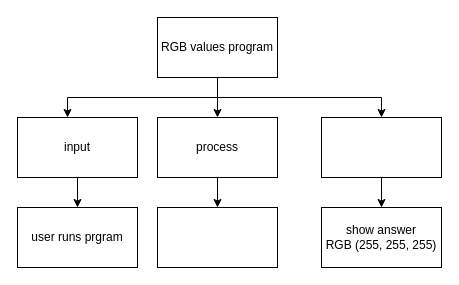
Some shapes in this 459 by 285 pixel diagram are drawn without their labels. The shapes that lost their labels are listed below. From the top down, each one's centre as x and y in pixels, then its label:
(381,147): ouput
(217,237): generate all RGB value
